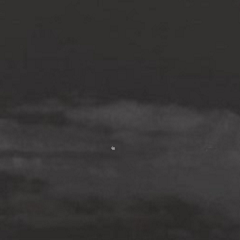Target: (110, 145, 117, 152)
